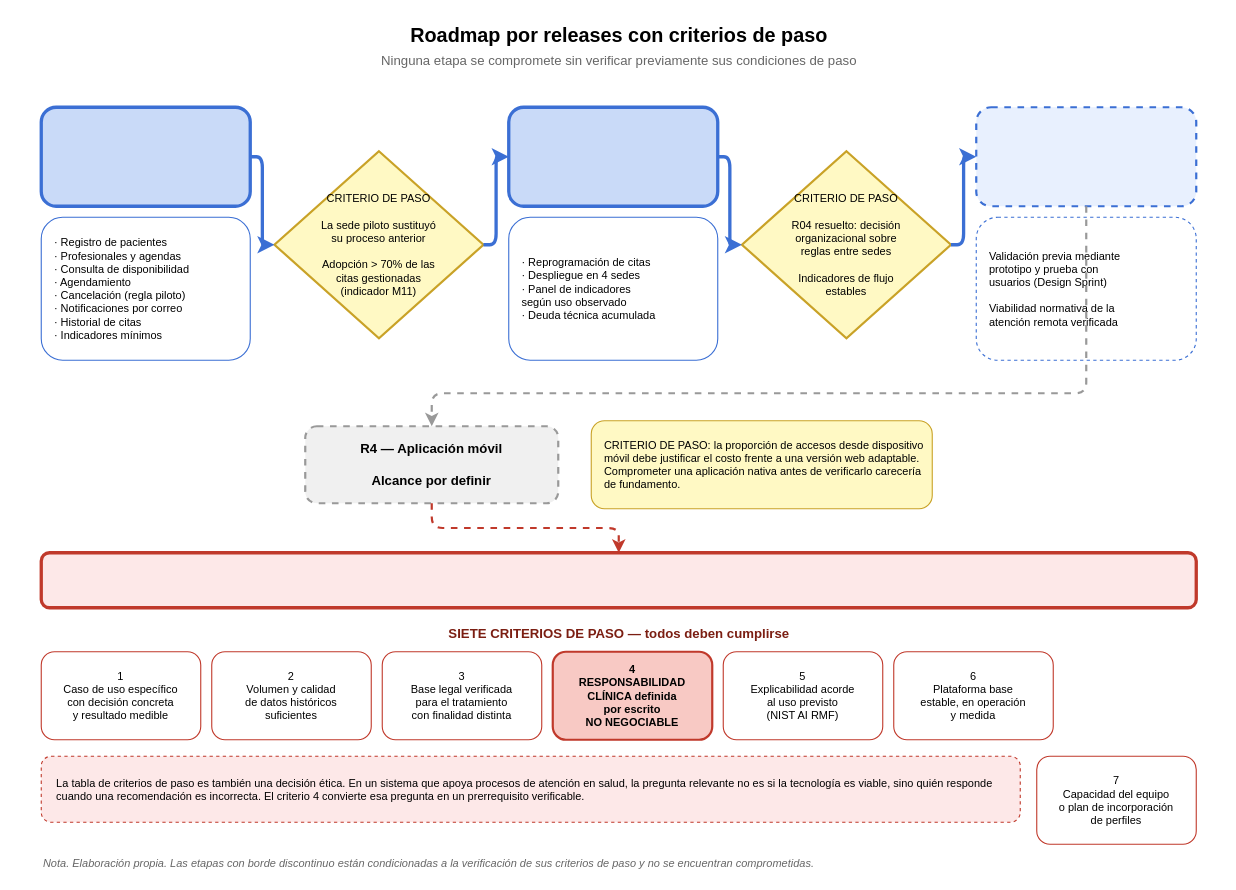
Some shapes in this 1236 by 890 pixel diagram are drawn without their labels. Here are the shapes that lost their labels. From the top down, the box of each, then its label:
(39, 105, 251, 207): R1 — MVP Sede piloto 5 sprints · 10 semanas
(507, 105, 719, 207): R2 — Consolidación 4 sedes 4 sprints
(975, 106, 1197, 207): R3 — Teleconsulta 4–6 sprints si la demanda se confirma
(39, 551, 1197, 609): R5 — COMPONENTES DE IA Ruta MLOps · alcance por definir
